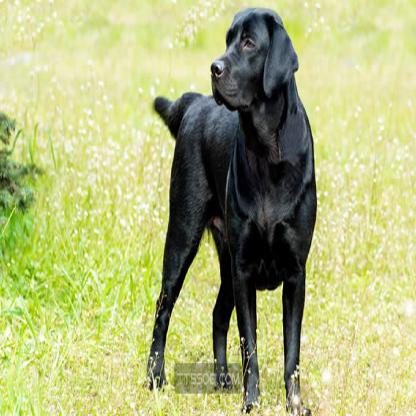Labarador Retriever: (145, 8, 316, 415)
